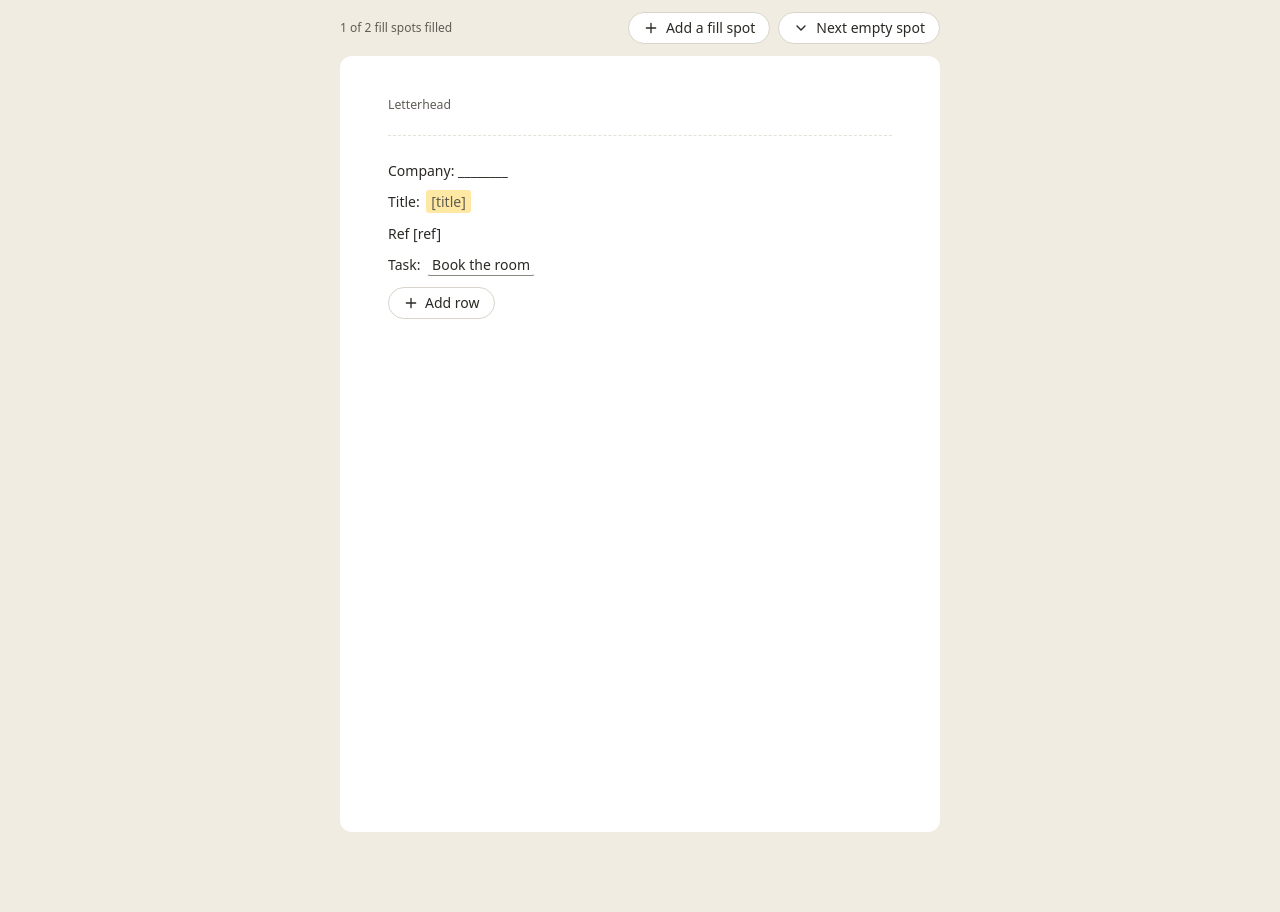
Test: DocumentPage: the menu on the page text › says why a header cannot take a spot
Right-click the text with class "document-page__text" showing "Letterhead" at (420, 104), box [388, 96, 451, 113]
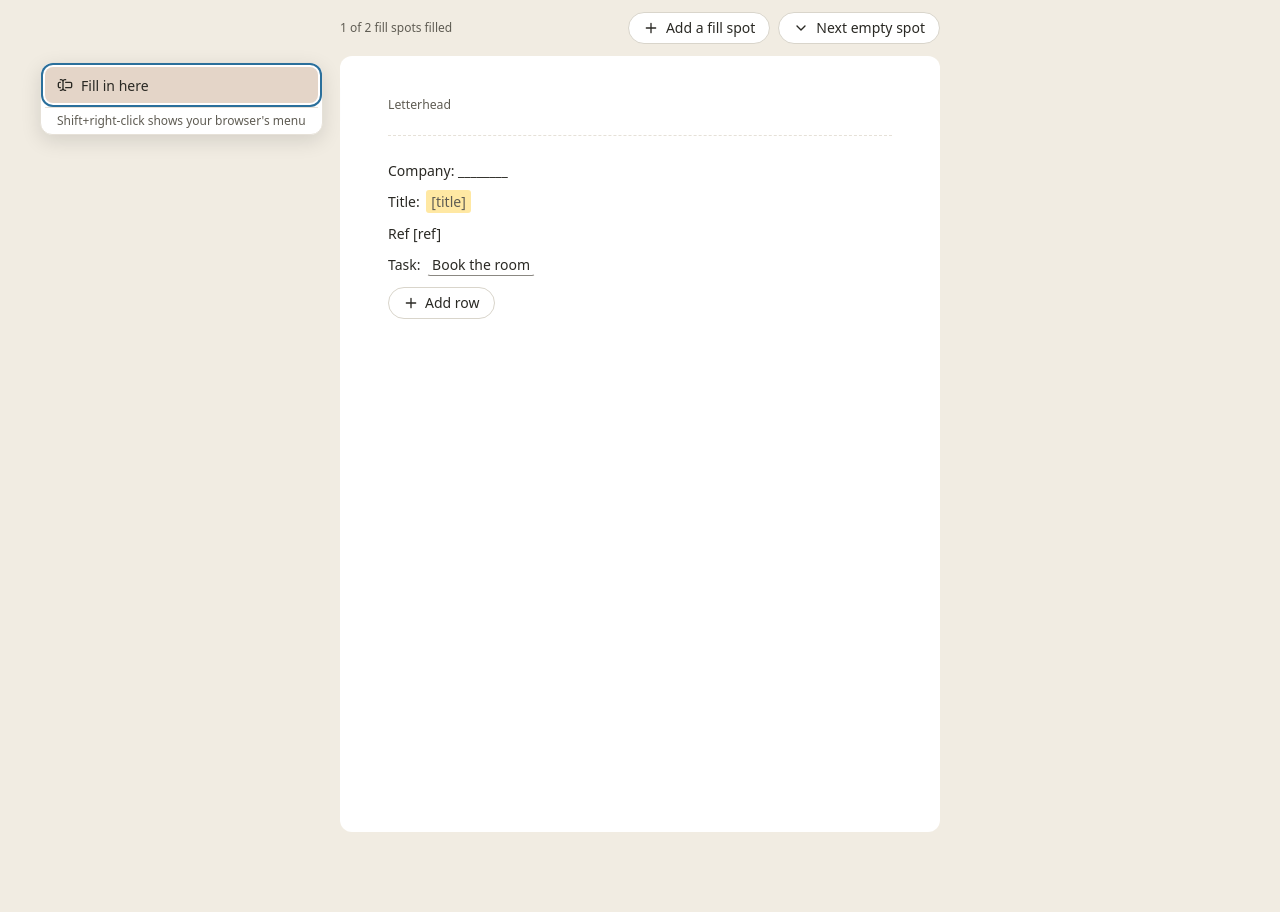
Click the menu item "Fill in here" at (115, 85), box [45, 67, 318, 103]
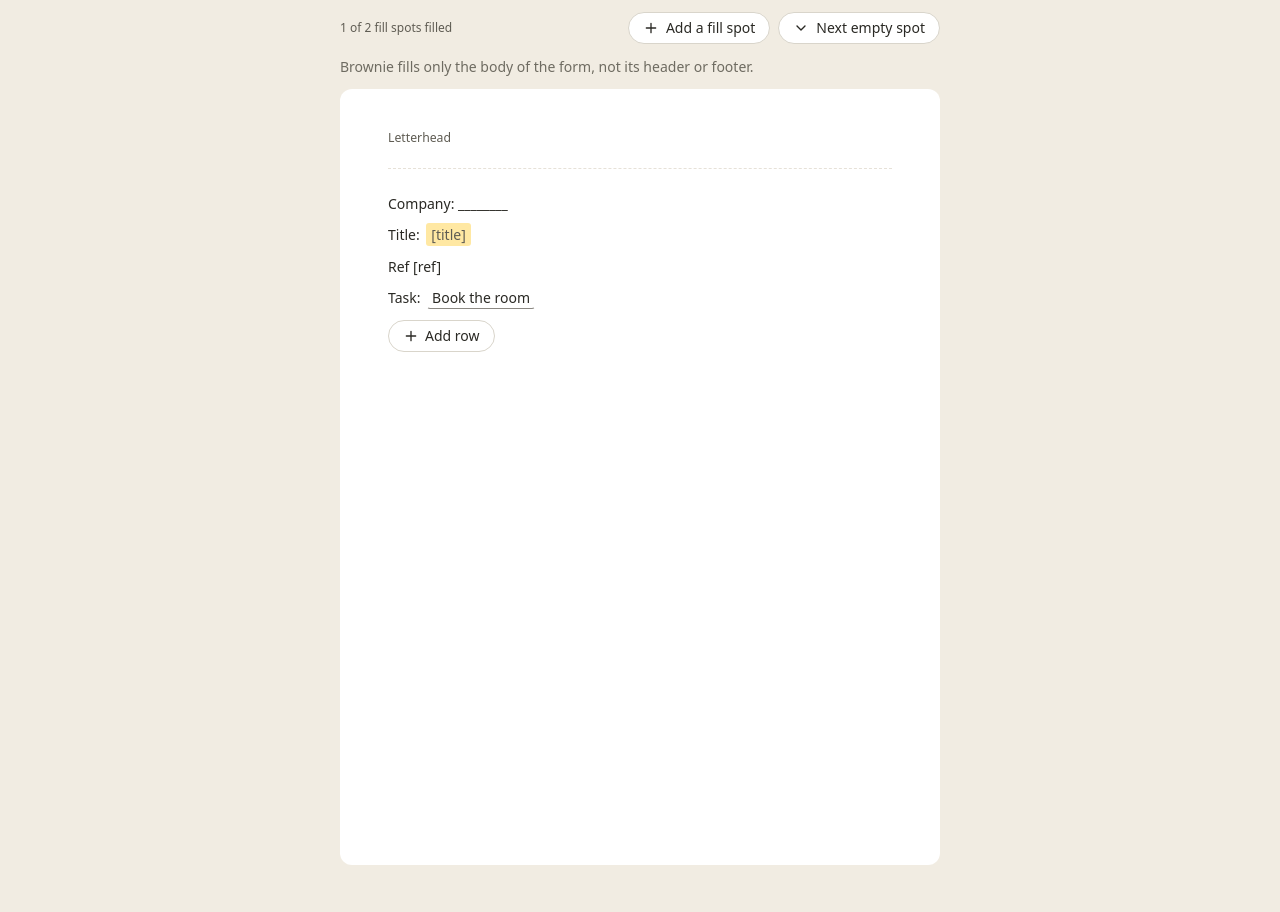
Expected: the message with class "document-page__tool-message" reads "Brownie fills only the body of the form, not its header or footer.", [340, 57, 754, 76]
